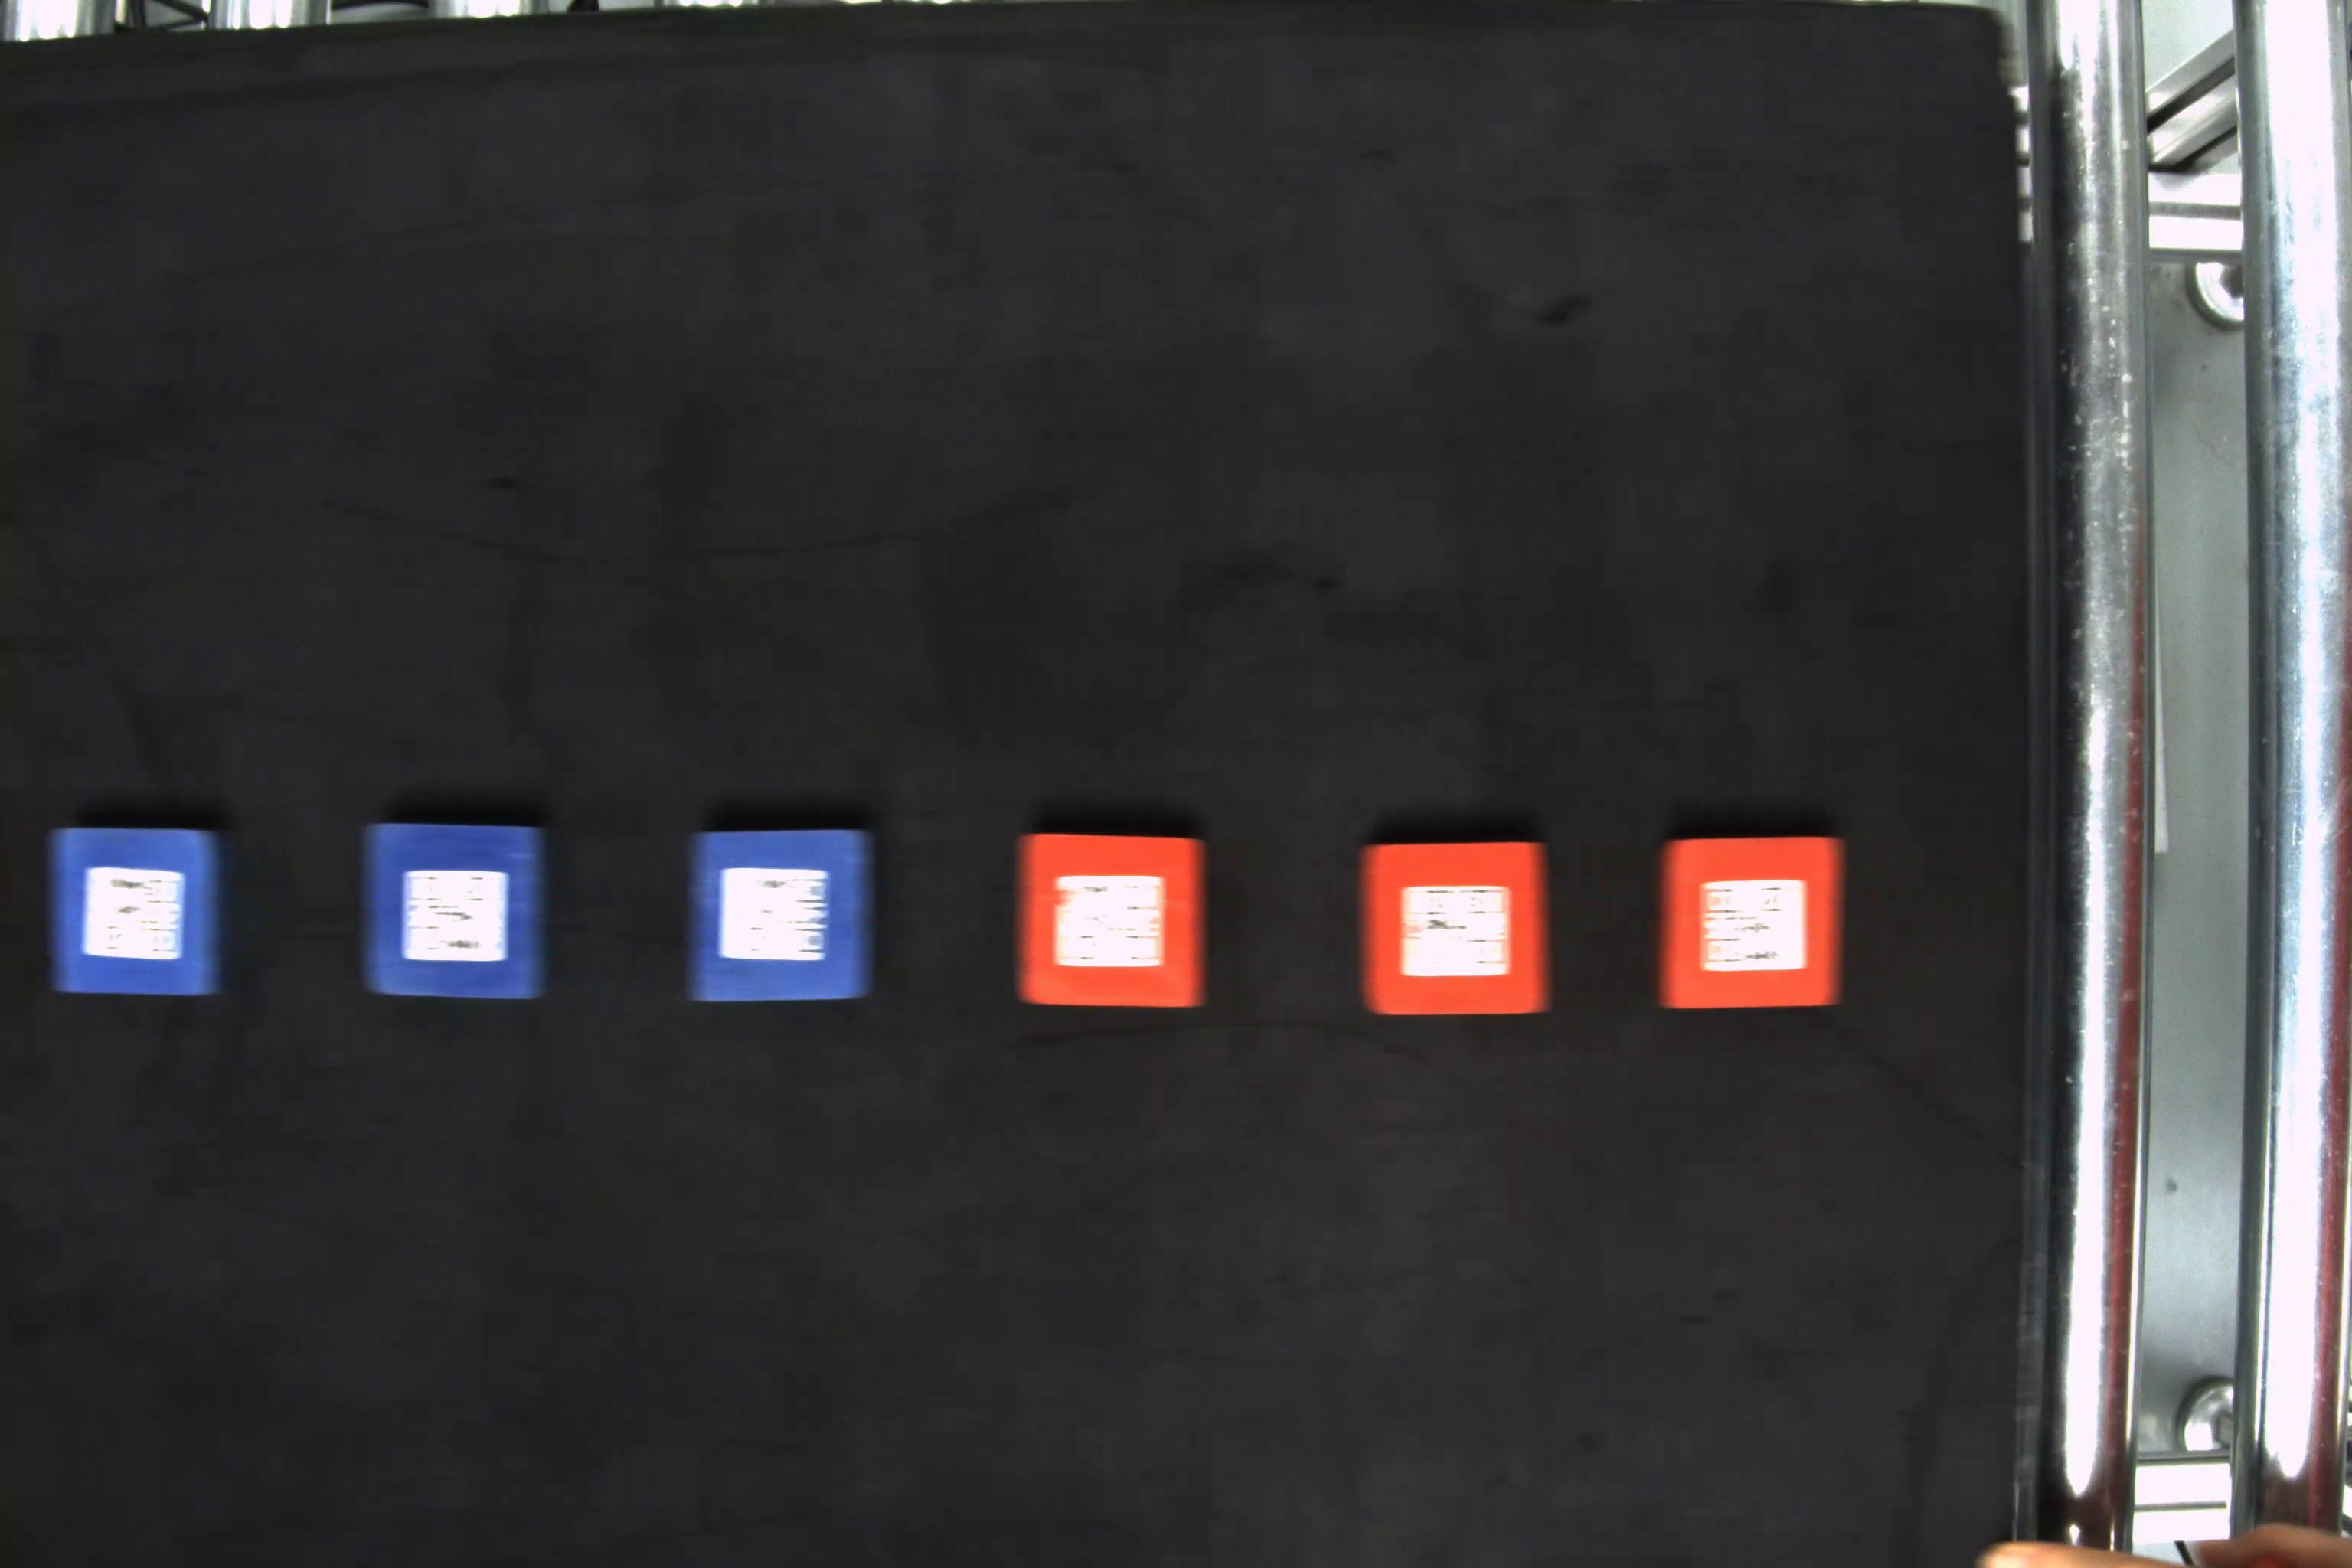wood: (359, 815, 553, 1004), (1015, 826, 1213, 1011), (1356, 840, 1559, 1020), (684, 826, 882, 1003), (45, 821, 231, 997), (1659, 836, 1850, 1008)
